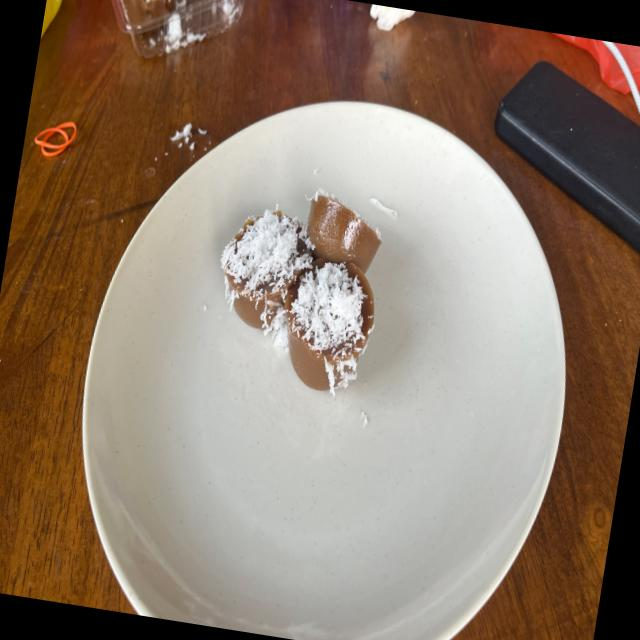Kuih lompang: (221, 207, 313, 346), (285, 262, 374, 396), (307, 194, 381, 273)
